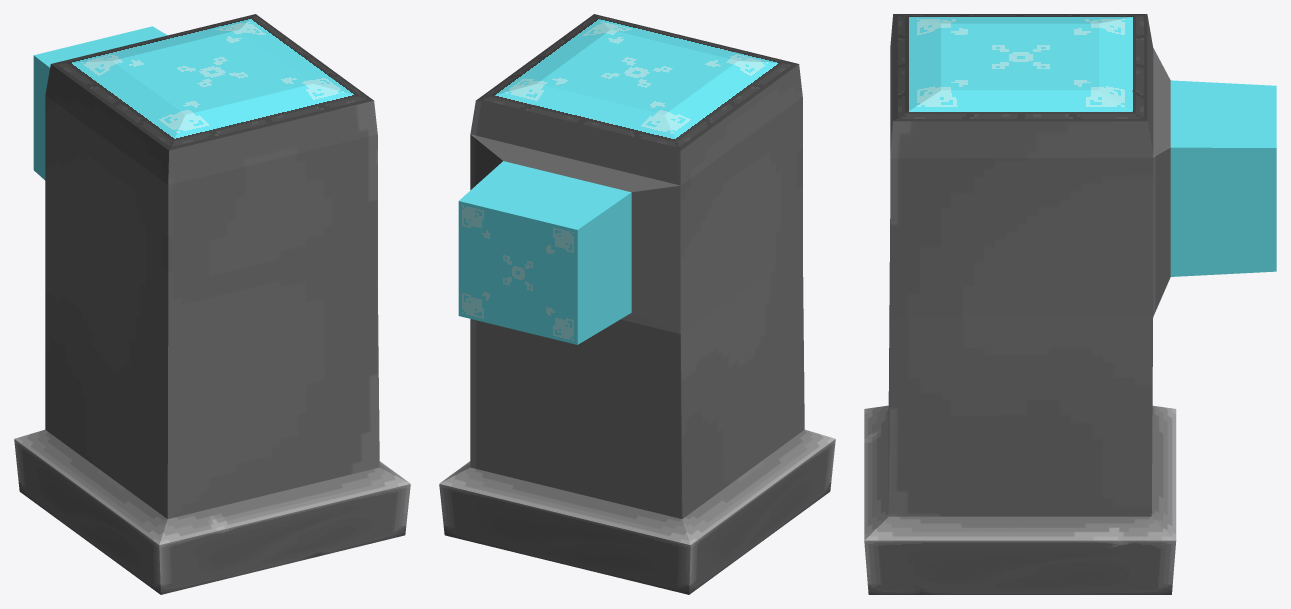
The model's file is LightPillar.fbx.
The picture shows the model from 3 angles, left to right: view 1: azimuth 30°, elevation 25°; view 2: azimuth 150°, elevation 25°; view 3: azimuth 270°, elevation 25°; orthographic projection. The views are drawn at different scales.
Parts seen in each view (by area): view 1: Cube; view 2: Cube; view 3: Cube.
Part boxes in pixels (left/top/right/bottom): Cube: left=14, top=14, right=410, bottom=594; Cube: left=439, top=14, right=835, bottom=594; Cube: left=864, top=14, right=1276, bottom=594.
Size of the model in its own units: 178 by 299 by 236.
